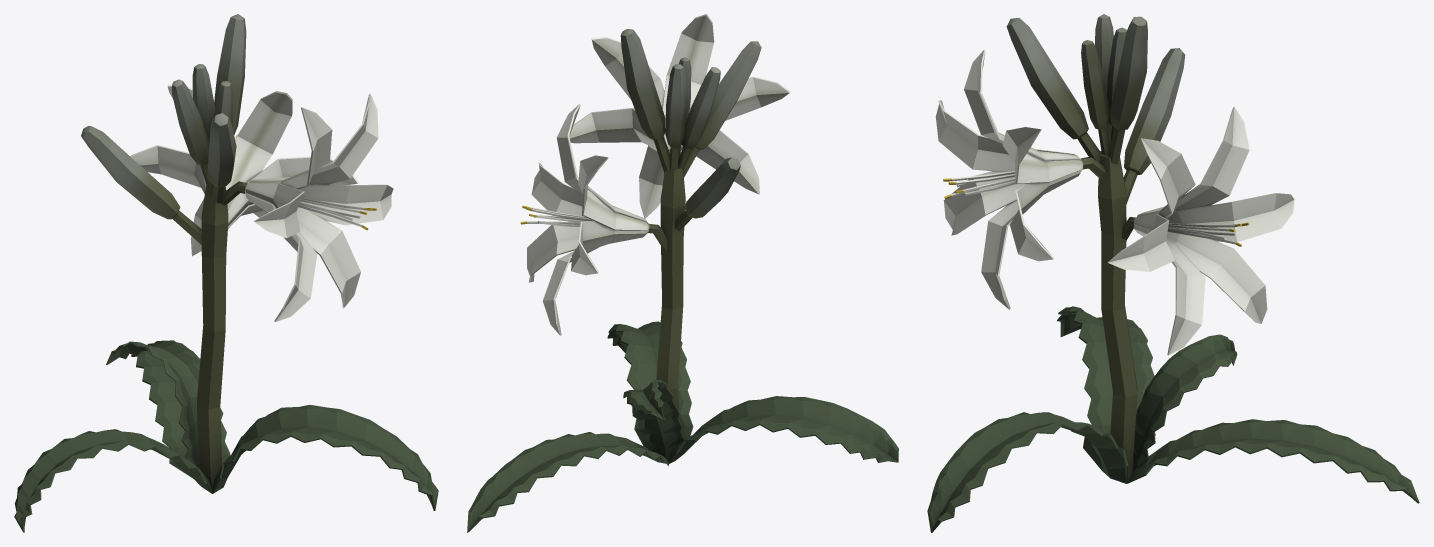
The model's file is desertLily.obj.
The picture shows the model from 3 angles, left to right: view 1: azimuth 30°, elevation 25°; view 2: azimuth 150°, elevation 25°; view 3: azimuth 270°, elevation 25°; orthographic projection. The views are drawn at different scales.
Visible parts, largest first — view 1: DeserLily_Mesh; view 2: DeserLily_Mesh; view 3: DeserLily_Mesh.
Boxes of the visible parts, x1,y1,x2,y2 form: DeserLily_Mesh: [14, 14, 438, 532]; DeserLily_Mesh: [467, 14, 898, 532]; DeserLily_Mesh: [927, 14, 1419, 532].
Size of the model in its own units: 4.29 by 5.12 by 4.8.
Materials: 1 (1 with a texture image).
